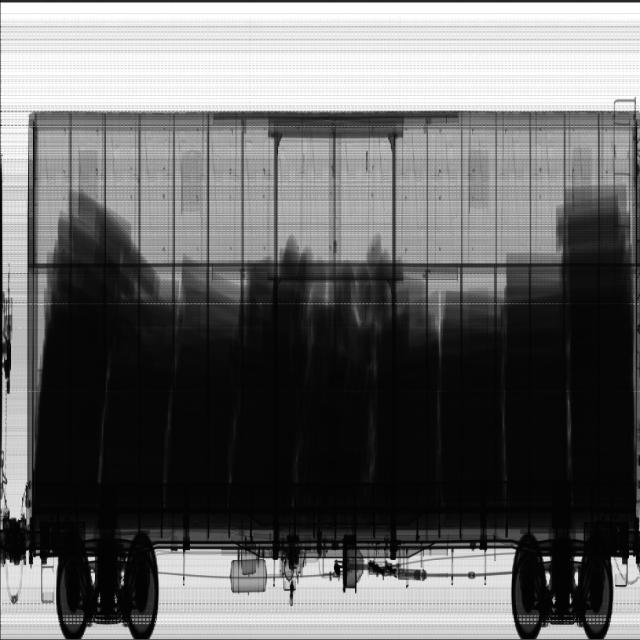fabrics: (226, 232, 405, 347), (41, 188, 150, 304)
